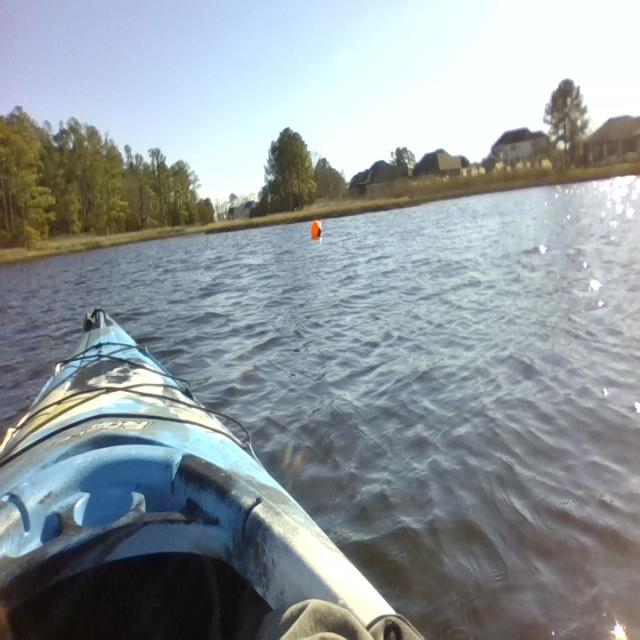Buoy: (307, 214, 327, 246)
